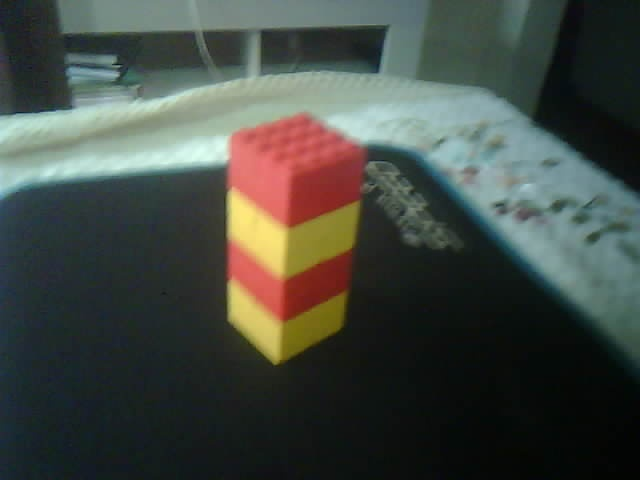lego: (222, 110, 369, 366)
